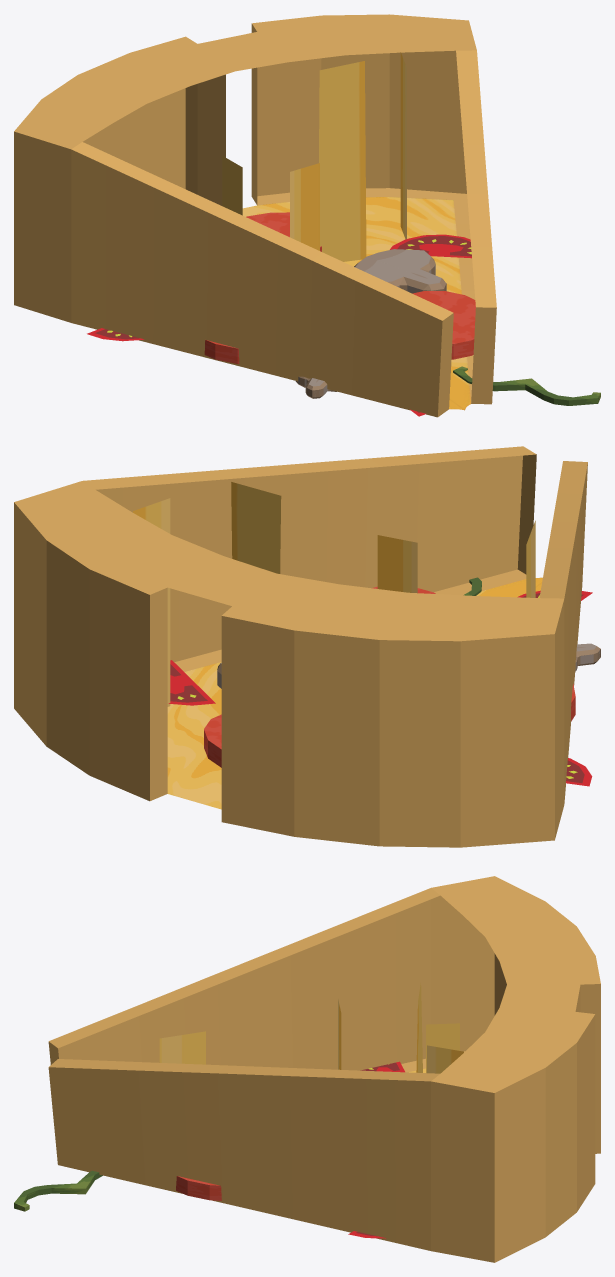
The model's file is pizzaMaze2.fbx.
3 views of the same model, one above another, from view 1: azimuth 30°, elevation 25°; view 2: azimuth 150°, elevation 25°; view 3: azimuth 270°, elevation 25° (orthographic). The views are drawn at different scales.
Visible parts, largest first — view 1: Cube, Cube.005, Cube.004, Cube.001, Cube.007, Circle.002, Plane.002, Circle.004, Cube.006, Cube.008, Circle, Circle.001; view 2: Cube, Cube.005, Cube.007, Cube.006, Circle.004, Circle, Cube.003, Circle.003; view 3: Cube, Cube.003, Plane.002, Cube.008, Circle.002, Cube.006.
Boxes of the visible parts, x1,y1,x2,y2 form: Cube: [14, 14, 496, 417]; Cube.005: [319, 61, 366, 261]; Cube.004: [197, 74, 225, 205]; Cube.001: [354, 249, 446, 293]; Cube.007: [290, 163, 319, 250]; Circle.002: [412, 291, 475, 359]; Plane.002: [453, 366, 600, 405]; Circle.004: [390, 234, 471, 258]; Cube.006: [400, 52, 406, 239]; Cube.008: [222, 156, 242, 215]; Circle: [246, 212, 321, 251]; Circle.001: [204, 340, 239, 363]; Cube: [14, 446, 587, 847]; Cube.005: [231, 482, 281, 573]; Cube.007: [377, 535, 417, 593]; Cube.006: [133, 498, 170, 706]; Circle.004: [168, 660, 215, 705]; Circle: [204, 714, 221, 767]; Cube.003: [526, 520, 535, 597]; Circle.003: [566, 758, 592, 786]; Cube: [48, 876, 600, 1262]; Cube.003: [159, 1031, 205, 1064]; Plane.002: [14, 1170, 102, 1211]; Cube.008: [426, 1023, 459, 1073]; Circle.002: [176, 1176, 221, 1200]; Cube.006: [427, 1045, 463, 1073].
Size of the model in its own units: 395 by 166 by 451.
Materials: 9 (4 with a texture image).
